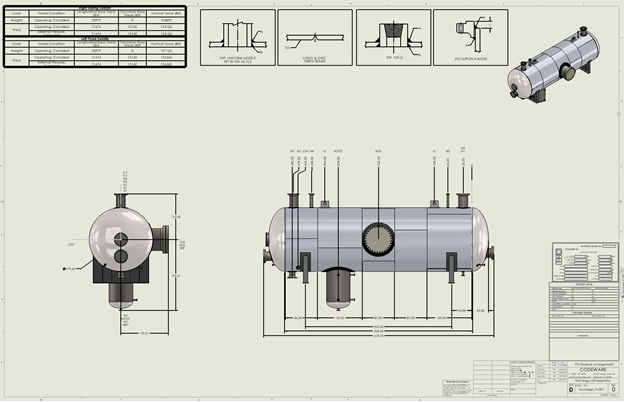nozzle: (145, 217, 177, 262), (277, 181, 307, 215), (109, 185, 139, 217), (456, 189, 477, 215), (281, 267, 302, 282)
